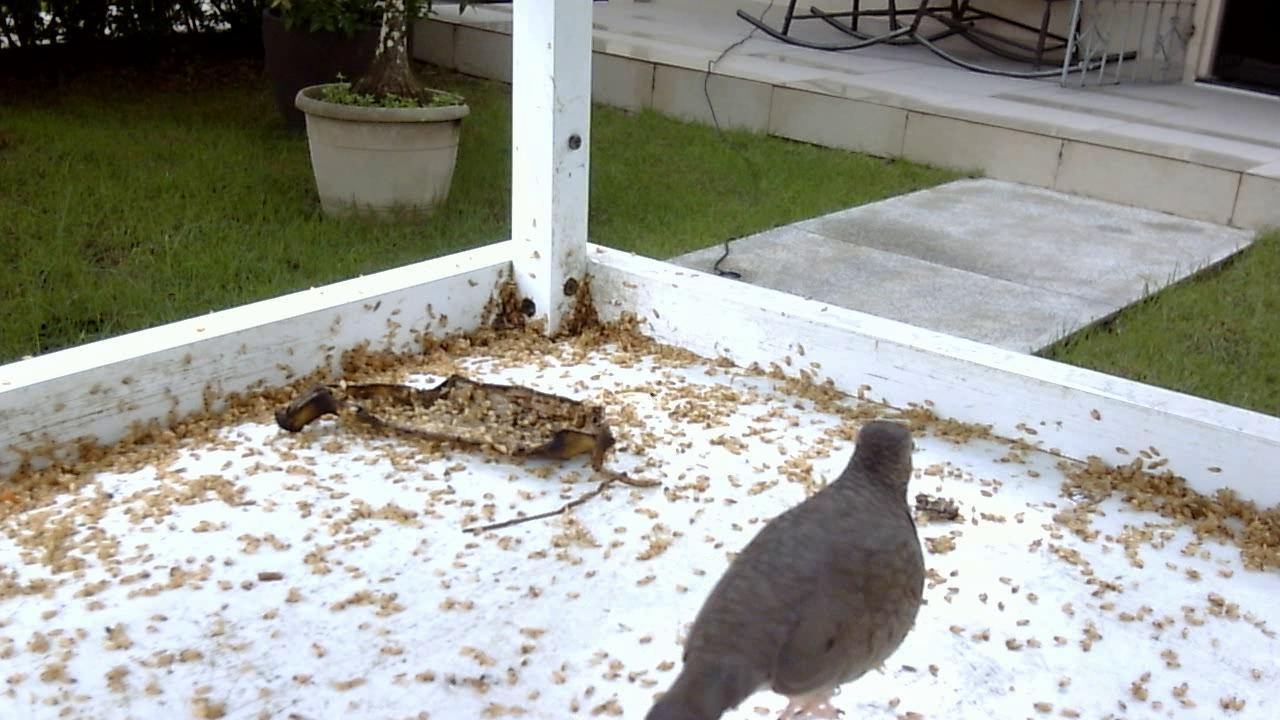rolinha: (628, 409, 942, 720)
